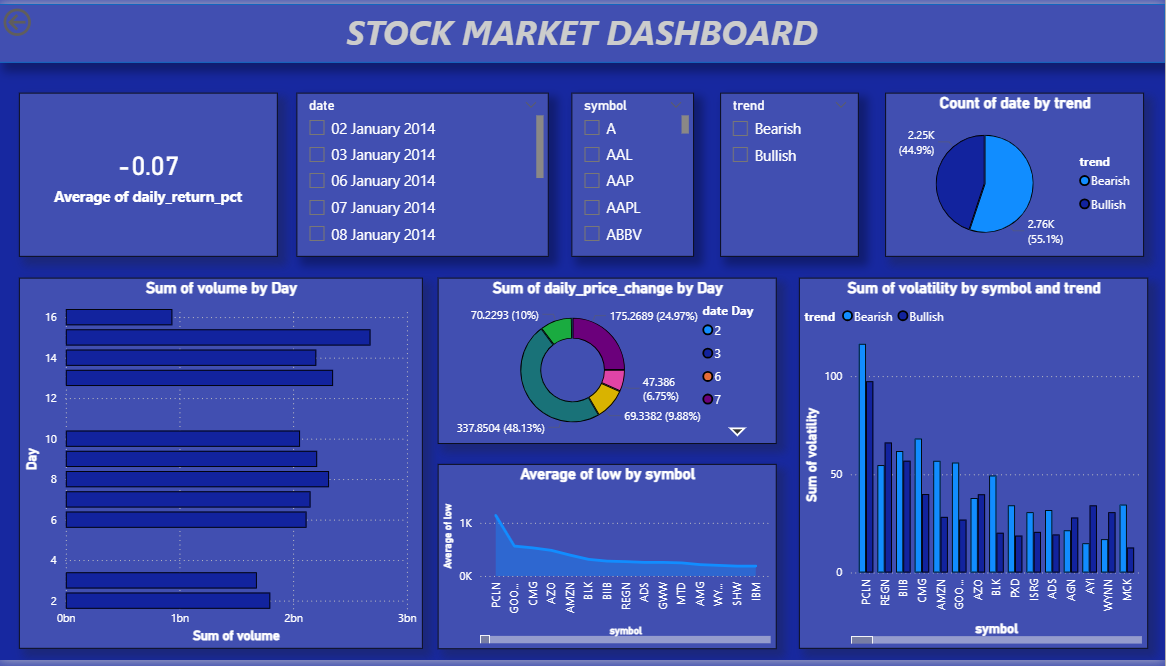

What the dashboard file says about the page in this screenshot:
{"tool":"powerbi","page":{"name":"Page 1","canvas":[1280,720],"ordinal":0},"visuals":[{"type":"shape","box":[0,0,1280.3,64.5],"z":0},{"type":"textbox","box":[0,0,1280.3,64.5],"z":1},{"type":"slicer","fields":{"Values":["sp500.symbol"]},"box":[628.5,97.4,134.5,179.8],"z":2},{"type":"slicer","fields":{"Values":["sp500.date"]},"box":[326.6,97.4,277.2,179.8],"z":3},{"type":"slicer","fields":{"Values":["sp500.trend"]},"box":[791.8,97.4,152.3,179.8],"z":4},{"type":"actionButton","box":[0,0,100,40],"z":6},{"type":"barChart","fields":{"Y":["Sum(sp500.volume)"],"Category":["sp500.date.Variation.Date Hierarchy.Day"]},"box":[22,300.5,443.2,407.5],"z":7},{"type":"card","fields":{"Values":["Avg(sp500.daily_return_pct)"]},"box":[22,97.4,284,179.8],"z":8},{"type":"pieChart","fields":{"Category":["sp500.trend"],"Y":["CountNonNull(sp500.date)"]},"box":[972.9,97.4,284,179.8],"z":9},{"type":"donutChart","fields":{"Category":["sp500.date.Variation.Date Hierarchy.Day"],"Y":["Sum(sp500.daily_price_change)"]},"box":[481.6,300.5,371.9,182.5],"z":10},{"type":"areaChart","fields":{"Category":["sp500.symbol"],"Y":["Avg(sp500.low)"]},"box":[481.6,505,371.9,203.1],"z":11},{"type":"clusteredColumnChart","fields":{"Y":["Sum(sp500.volatility)"],"Category":["sp500.symbol"],"Series":["sp500.trend"]},"box":[878.2,300.5,382.8,407.5],"z":12}]}

Visuals, with their boxes in screenshot pixels (x1, y1, x2, y2), scaled from the page's 1280x720 canvas onto the 1166x666 screenshot:
shape: detection(0, 0, 1165, 60)
textbox: detection(0, 0, 1165, 60)
slicer - sp500.symbol: detection(573, 90, 695, 256)
slicer - sp500.date: detection(298, 90, 550, 256)
slicer - sp500.trend: detection(721, 90, 860, 256)
actionButton: detection(0, 0, 91, 37)
barChart - Sum(sp500.volume) x sp500.date.Variation.Date Hierarchy.Day: detection(20, 278, 424, 655)
card - Avg(sp500.daily_return_pct): detection(20, 90, 279, 256)
pieChart - sp500.trend x CountNonNull(sp500.date): detection(886, 90, 1145, 256)
donutChart - sp500.date.Variation.Date Hierarchy.Day x Sum(sp500.daily_price_change): detection(439, 278, 777, 447)
areaChart - sp500.symbol x Avg(sp500.low): detection(439, 467, 777, 655)
clusteredColumnChart - Sum(sp500.volatility) x sp500.symbol: detection(800, 278, 1149, 655)
